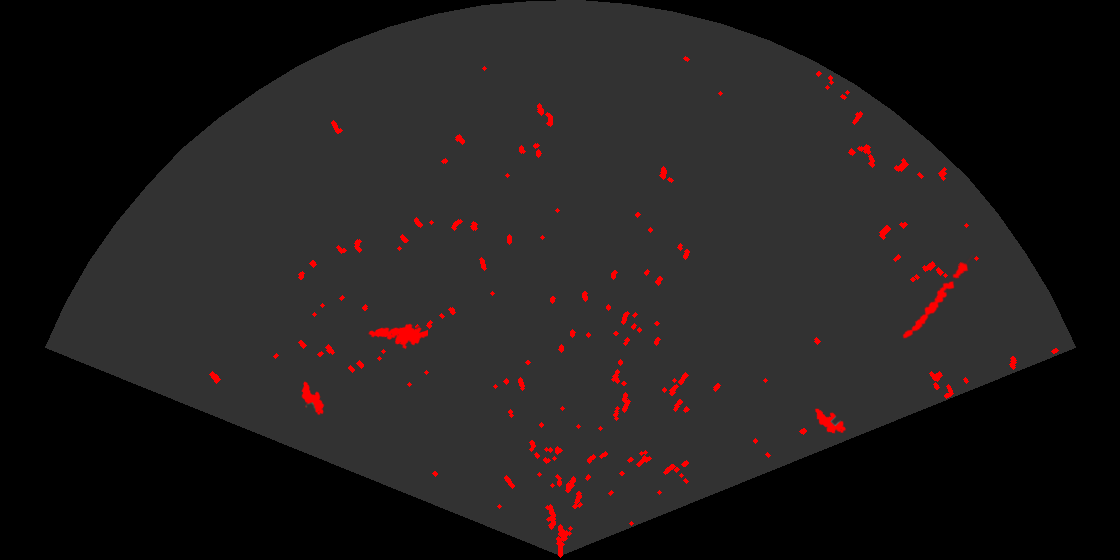AUV: (813, 407, 848, 435), (300, 380, 326, 417)
chain: (901, 255, 975, 340)
frogman: (366, 322, 428, 351)
